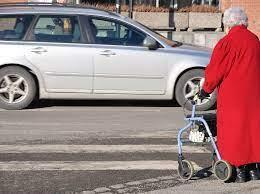walking_frame: (177, 7, 260, 183)
